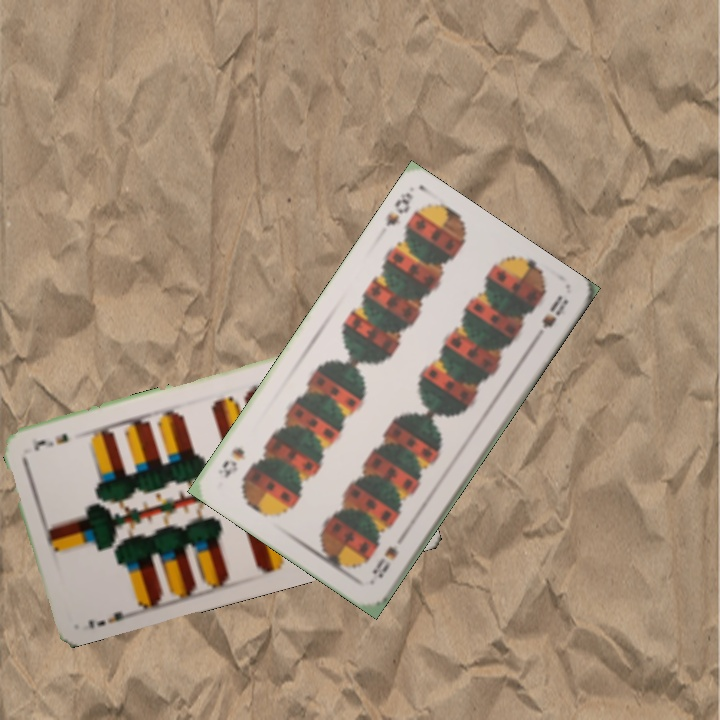E7: (83, 607, 135, 632)
S8: (381, 188, 416, 230), (368, 541, 401, 581)
